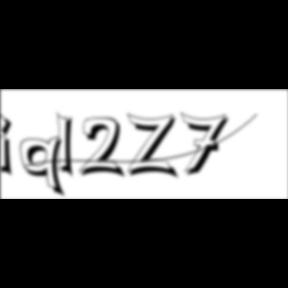2: (79, 117, 129, 181)
7: (180, 111, 235, 179)
I: (57, 110, 81, 182)
Z: (128, 112, 182, 181)
i: (1, 112, 20, 180)
q: (20, 135, 70, 200)
